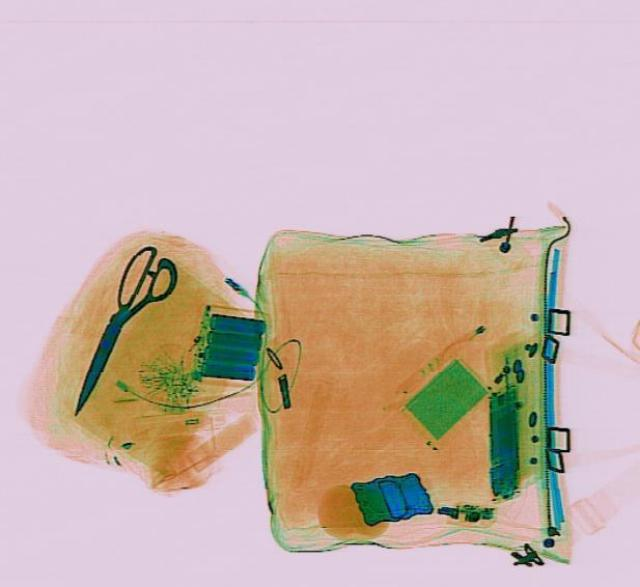Scissors: (49, 239, 188, 424)
